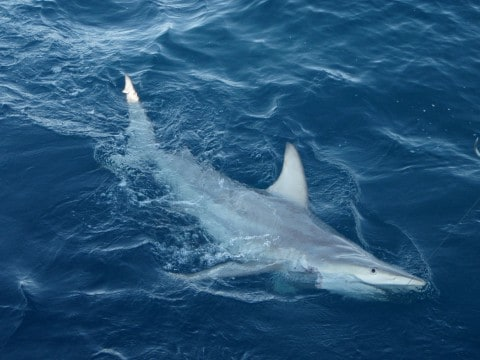shark: (115, 71, 434, 314)
